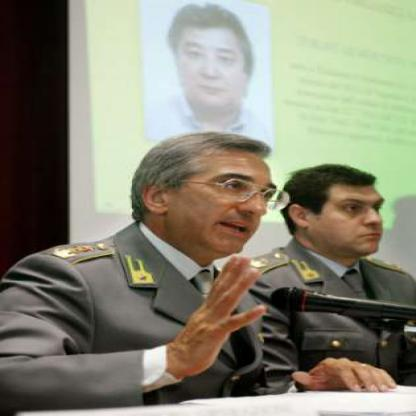face: (169, 138, 284, 258), (309, 167, 395, 261), (176, 9, 254, 111)
